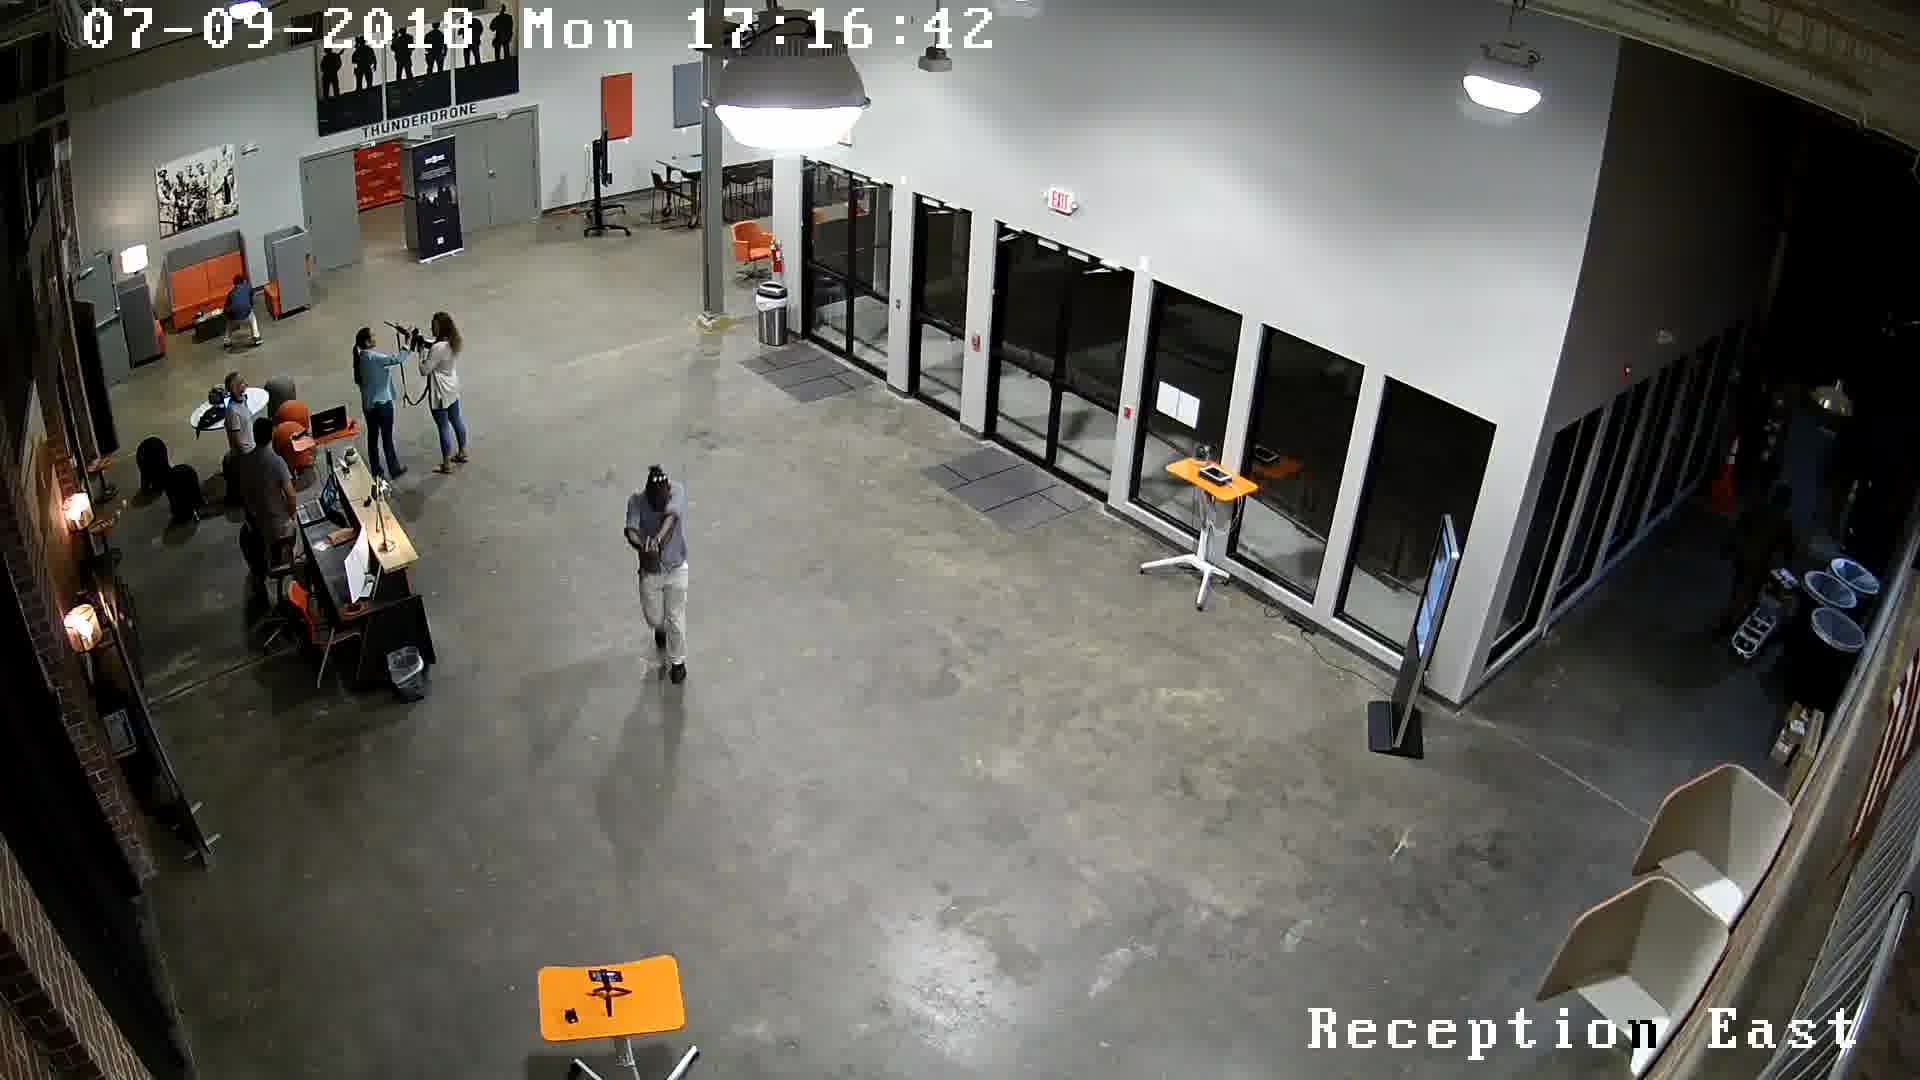pistol: (626, 527, 671, 582)
